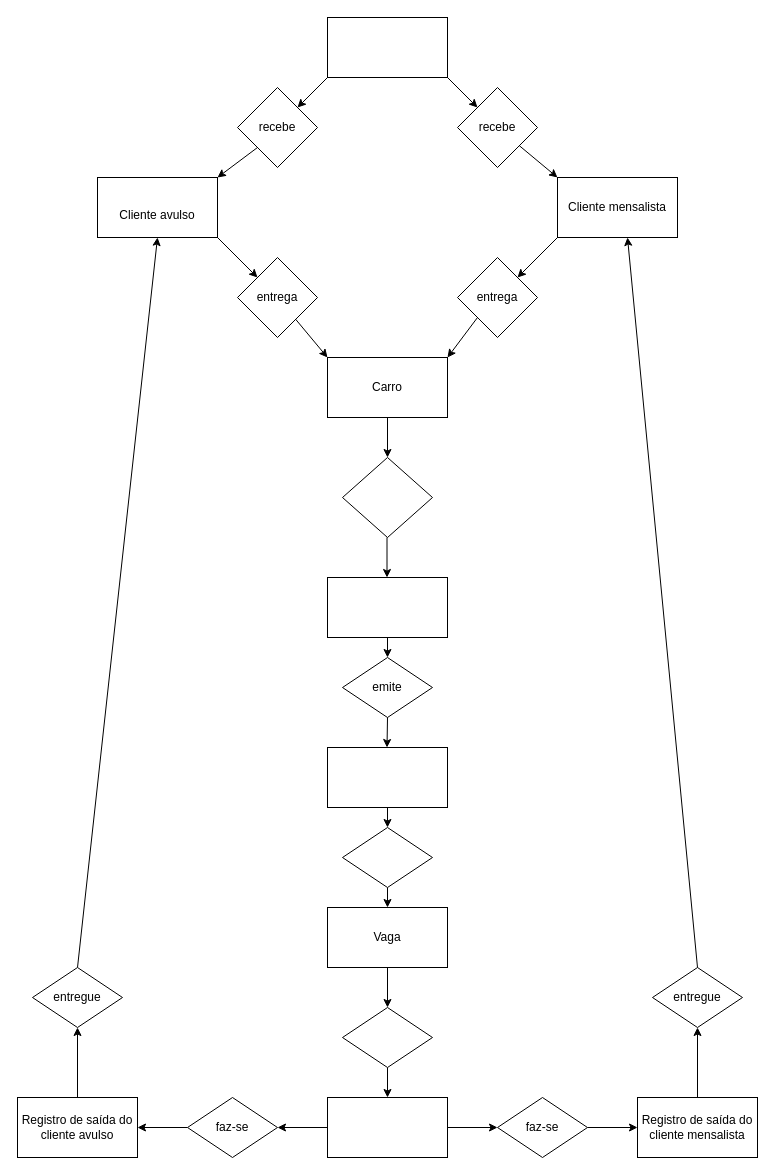
Some shapes in this 775 by 1175 pixel diagram are drawn without their labels. The centre of each missing label's shape, as x and y in pixels:
Comprovante do estacionamento: [387,777]
desocupada: [387,1037]
Empresa de estacionamento: [387,47]
indica: [387,857]
Manobrista: [387,607]
Recebido por: [387,497]
Retorno: [387,1127]
